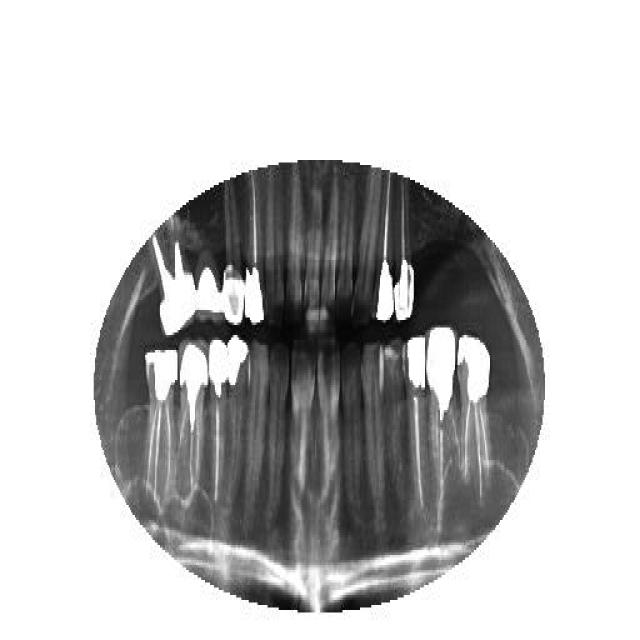Fillings: (225, 335, 249, 470), (221, 185, 244, 320), (196, 248, 224, 328)
Implant: (455, 332, 495, 502), (425, 325, 455, 527), (142, 348, 178, 510), (152, 215, 198, 340), (178, 340, 208, 500), (404, 332, 428, 512), (375, 170, 400, 328), (244, 170, 265, 325), (208, 342, 226, 502), (396, 190, 416, 325)
